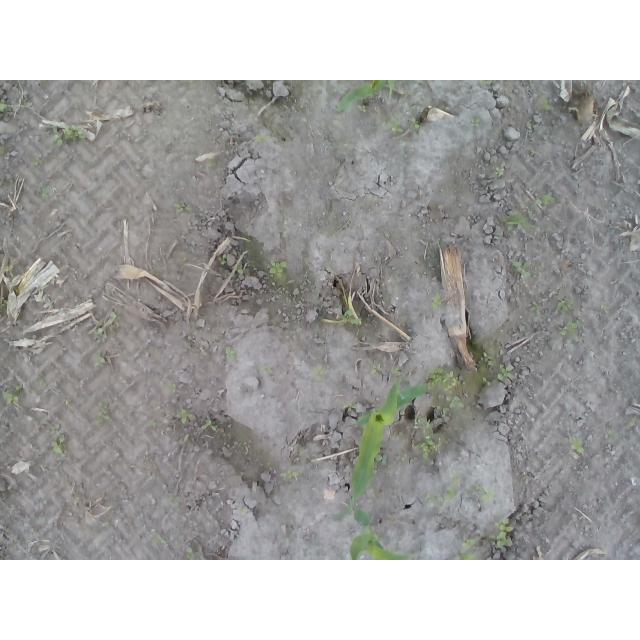Maize: (337, 382, 428, 521), (348, 508, 412, 560), (335, 80, 397, 114)
Weeds: (427, 368, 466, 417), (414, 416, 446, 462), (48, 124, 89, 147), (501, 208, 535, 233), (490, 518, 512, 549), (455, 538, 482, 560), (471, 484, 498, 504), (1, 384, 23, 405), (96, 399, 113, 425), (568, 433, 588, 455), (532, 192, 556, 208), (268, 261, 288, 280), (558, 319, 578, 337), (476, 351, 496, 369), (390, 366, 409, 384), (342, 310, 362, 327), (49, 434, 65, 455), (309, 366, 327, 383), (512, 259, 528, 278), (387, 117, 404, 134), (495, 367, 513, 382), (339, 399, 358, 413), (442, 488, 458, 504), (31, 160, 46, 177), (557, 300, 575, 313), (432, 294, 445, 312), (202, 419, 217, 434), (176, 409, 192, 423), (38, 183, 50, 201), (166, 495, 182, 508), (94, 351, 107, 367), (449, 470, 461, 487), (175, 203, 193, 214), (528, 303, 540, 317), (224, 347, 236, 361), (375, 454, 389, 466), (151, 535, 166, 546), (280, 471, 296, 481), (411, 115, 422, 129), (608, 430, 620, 442), (480, 375, 492, 387), (242, 439, 255, 450), (423, 495, 437, 505), (258, 366, 273, 375), (1, 295, 8, 313), (543, 98, 553, 110), (216, 253, 226, 265), (370, 365, 382, 375), (0, 99, 8, 113), (471, 118, 482, 128), (255, 134, 265, 145), (400, 453, 409, 464), (187, 546, 194, 560), (144, 421, 158, 428), (480, 80, 492, 88), (496, 167, 505, 177), (109, 312, 119, 321), (51, 424, 62, 432), (168, 384, 177, 393), (64, 400, 73, 409), (357, 104, 367, 112), (34, 377, 44, 385), (600, 303, 608, 313), (3, 264, 13, 272), (1, 145, 8, 156), (71, 495, 80, 502), (237, 263, 243, 273), (335, 304, 340, 308)
